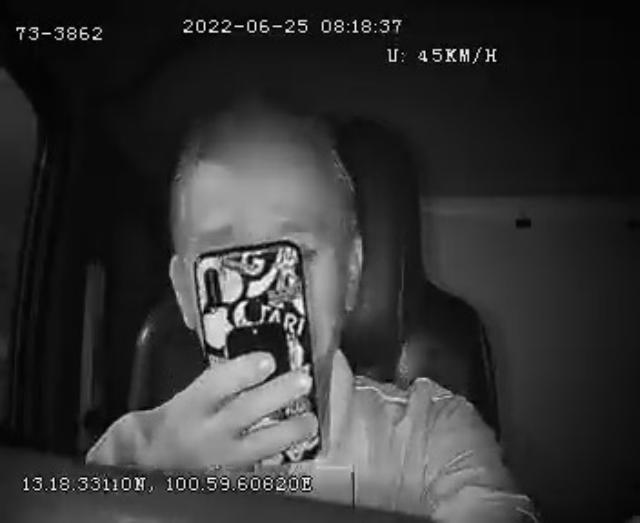Phone: (194, 240, 324, 462)
